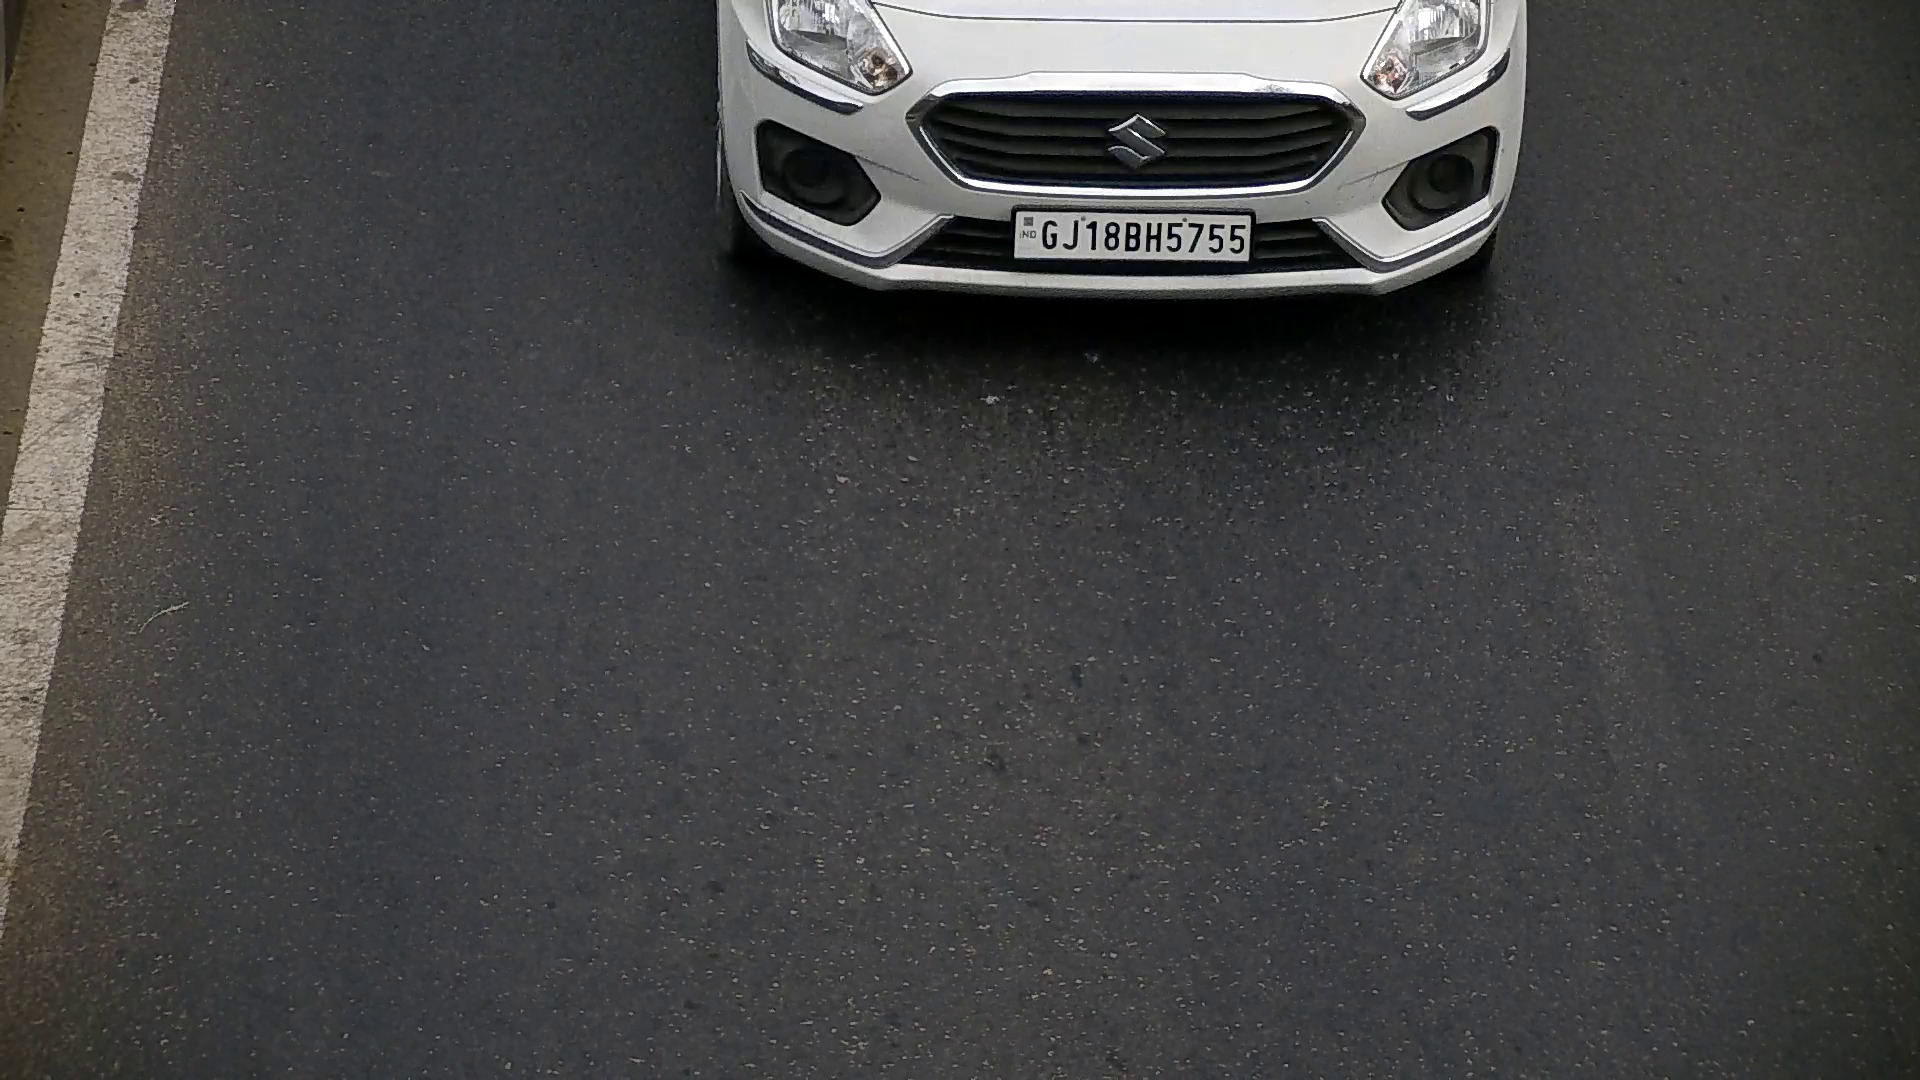numberplate: (1008, 207, 1260, 261)
